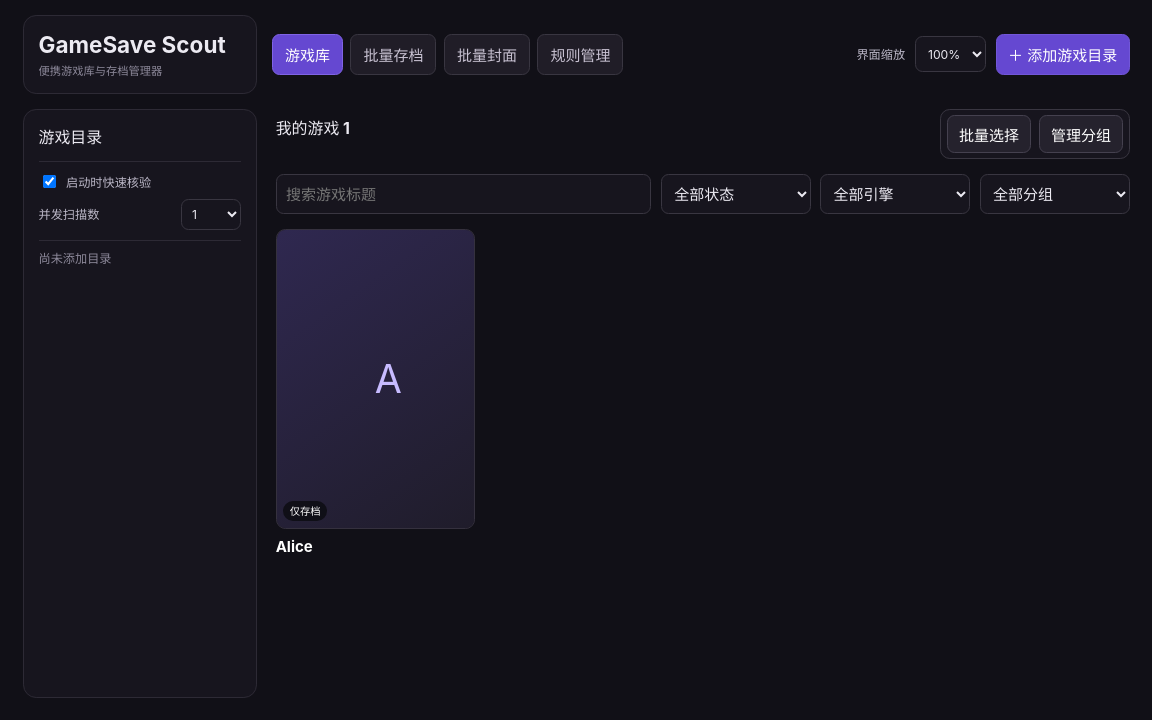
Test case: App › keeps the batch group dialog and selection after an update failure
The image size is (1152, 720).
Click the button with test id "enter-batch-mode".
click(989, 134)  # box 947,115 -> 1031,153
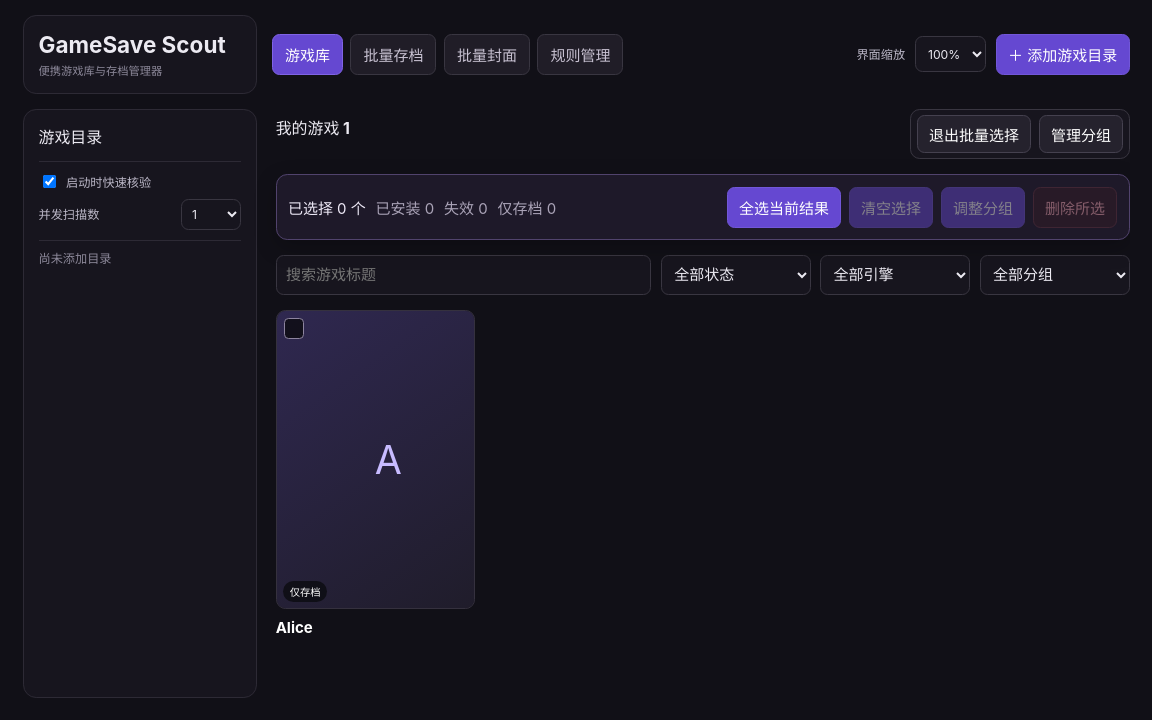
Click the button with test id "game-card-save-1".
click(375, 473)  # box 276,310 -> 475,637
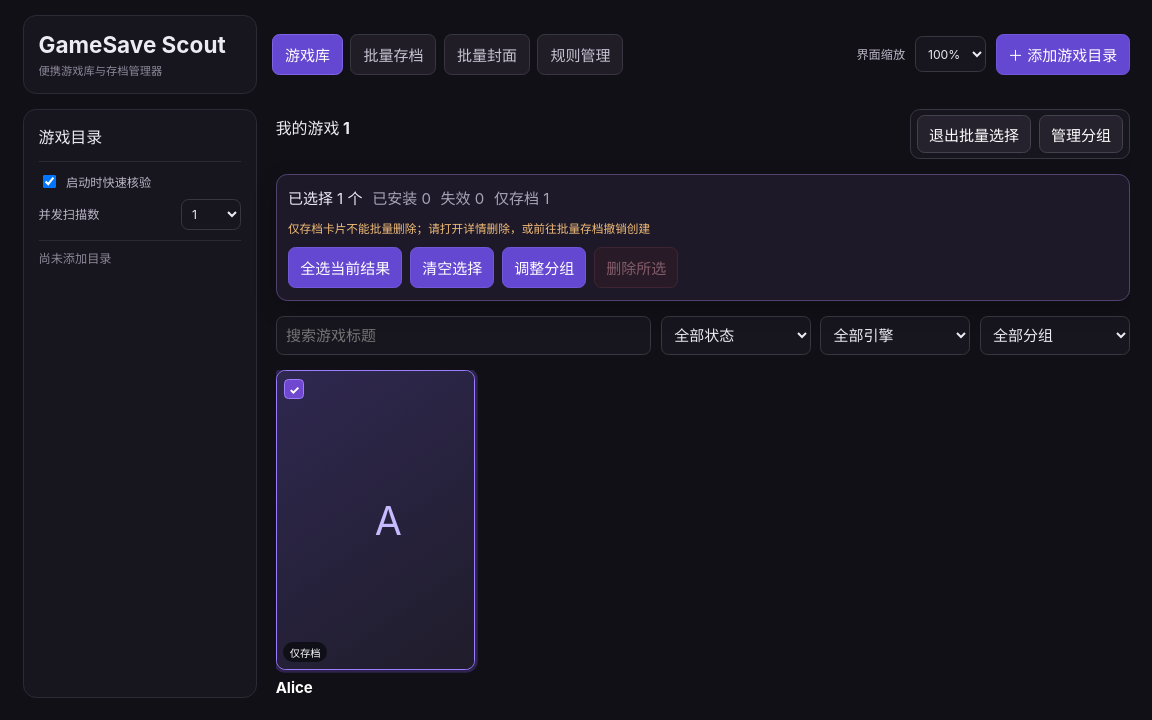
Click the button with test id "batch-group".
click(544, 268)  # box 502,247 -> 586,288
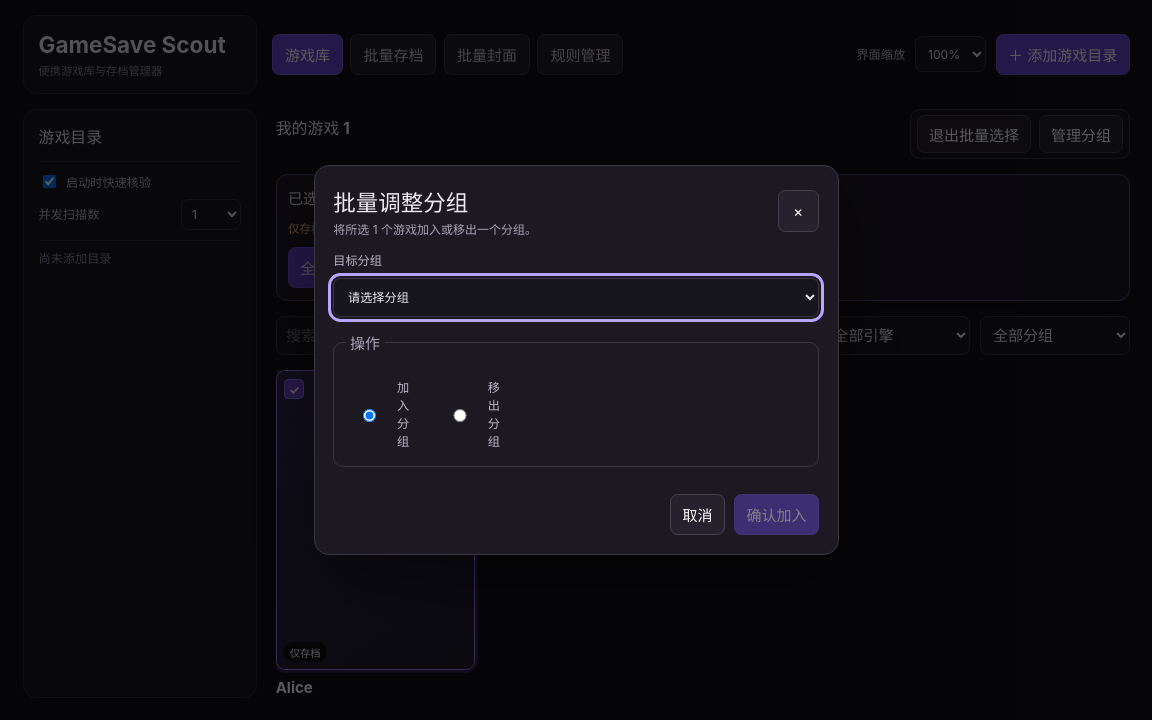
Select "RPG（0）" in the dropdown with test id "batch-group-select" at (576, 298), box 333,278 -> 819,317
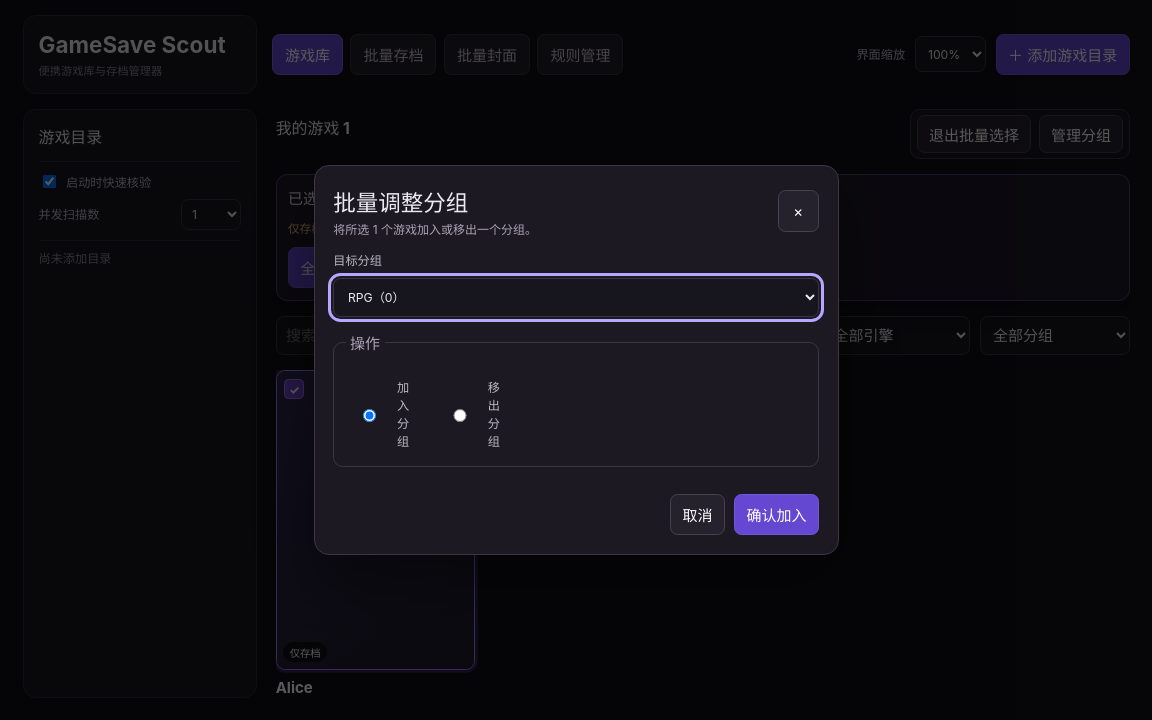
Click the radio button with test id "batch-group-mode-remove".
click(460, 415)  # box 441,409 -> 479,422
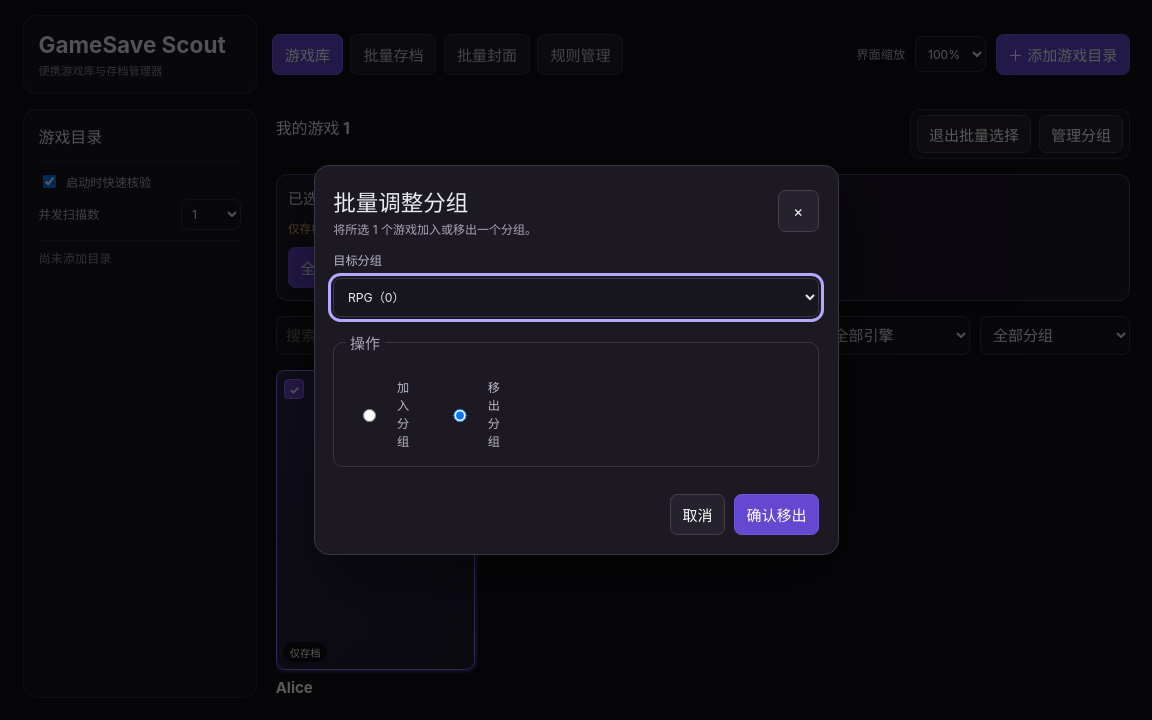
Submit the form with test id "batch-group-form", box 333,237 -> 819,535
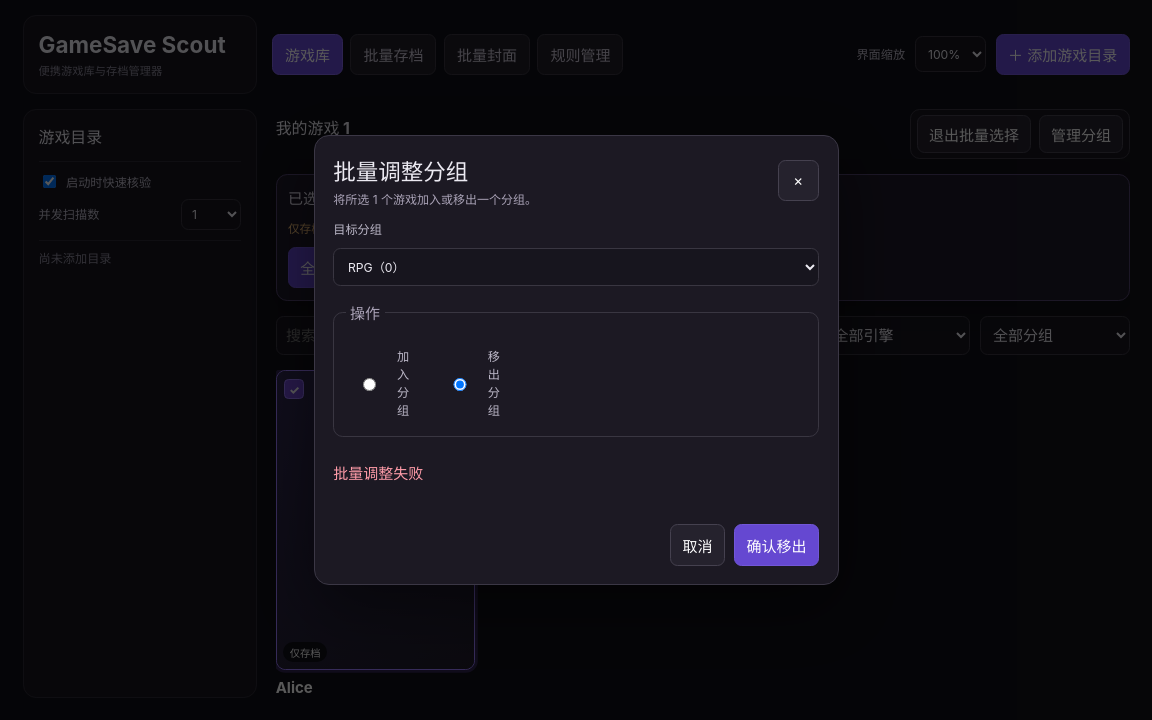
Expected: the radio button with test id "batch-group-mode-remove" is checked, 441,378 -> 479,391
Expected: the dialog with test id "batch-group-dialog" is shown, 314,135 -> 838,586
Expected: the message "批量调整失败" is shown, 333,464 -> 423,483
